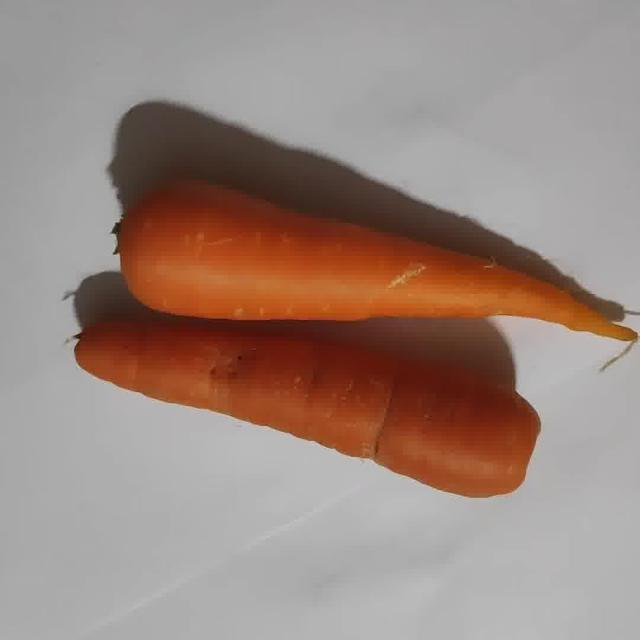Carrot: (76, 322, 539, 497), (119, 185, 636, 340)
